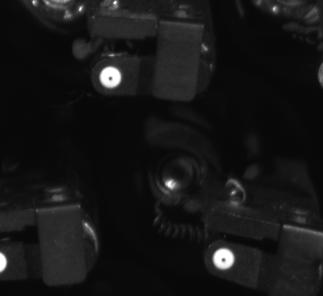fiber: (208, 242, 240, 275), (95, 62, 126, 92)
